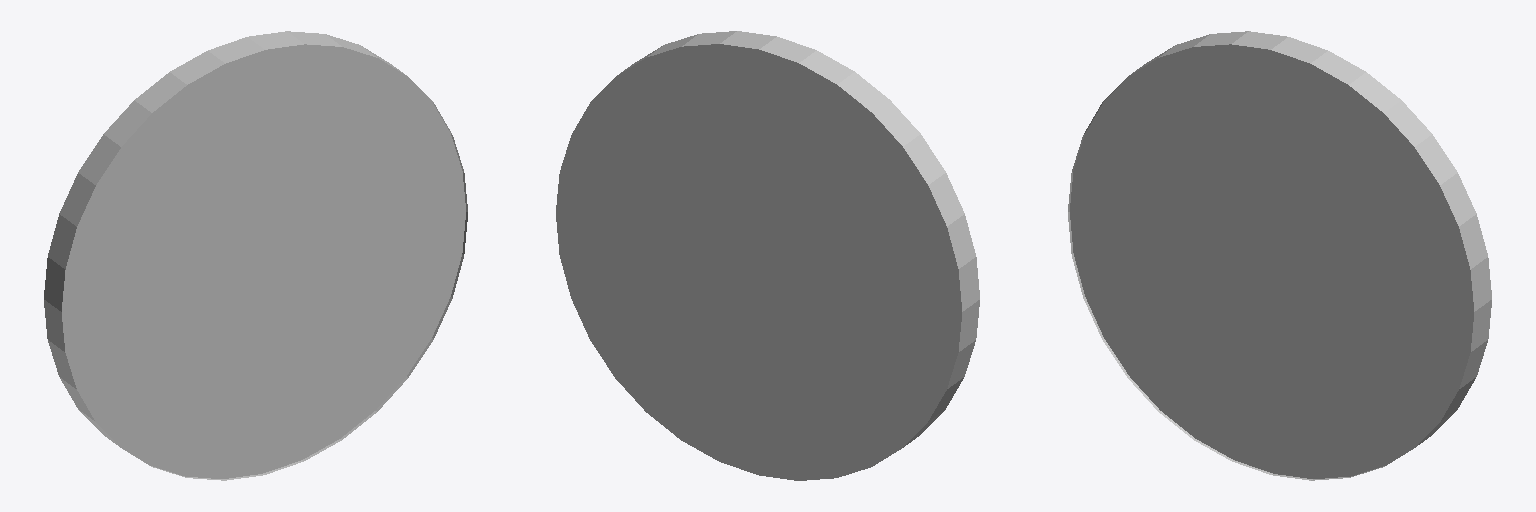
Rendered from firedirt.obj.
3 views of the same model, side by side, from view 1: azimuth 30°, elevation 25°; view 2: azimuth 150°, elevation 25°; view 3: azimuth 330°, elevation 25° (orthographic).
Parts seen in each view (by area): view 1: Circle; view 2: Circle; view 3: Circle.
Boxes of the visible parts, box(x1,y1,x2,y2) form: Circle: box(44, 31, 467, 480); Circle: box(556, 31, 979, 480); Circle: box(1068, 31, 1491, 480).
Bounding box in the file's own units: 1.19 × 1.19 × 0.0934.